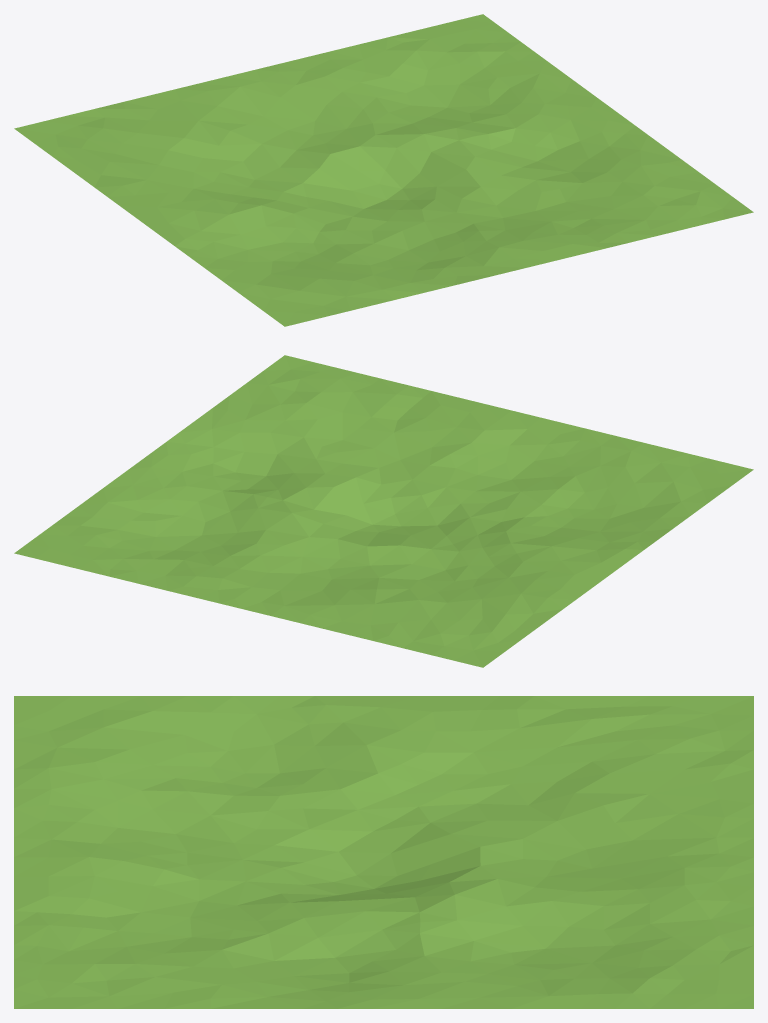
Rendered from MT_Terrain_M_b_02.fbx.
The picture shows the model from 3 angles, top to bottom: view 1: azimuth 30°, elevation 25°; view 2: azimuth 150°, elevation 25°; view 3: azimuth 270°, elevation 25°; orthographic projection. The views are drawn at different scales.
Visible parts, largest first — view 1: MT_Terrain_M_b_02; view 2: MT_Terrain_M_b_02; view 3: MT_Terrain_M_b_02.
Boxes of the visible parts, box(x1,y1,x2,y2) form: MT_Terrain_M_b_02: box(14, 14, 753, 326); MT_Terrain_M_b_02: box(14, 355, 753, 667); MT_Terrain_M_b_02: box(14, 696, 753, 1008).
Size of the model in its own units: 5000 by 221 by 5000.
